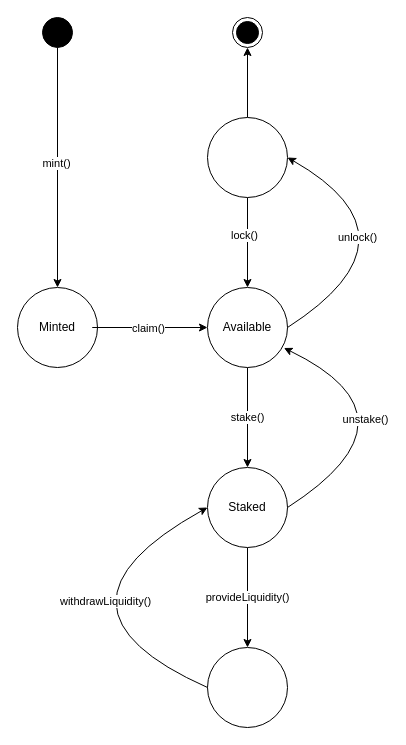
This 406x745 diagram has some shape labels left out. The centre of each missing label's shape, as x and y in pixels:
"Floating" belongs at [247,157].
"LP'd" belongs at [247,687].
